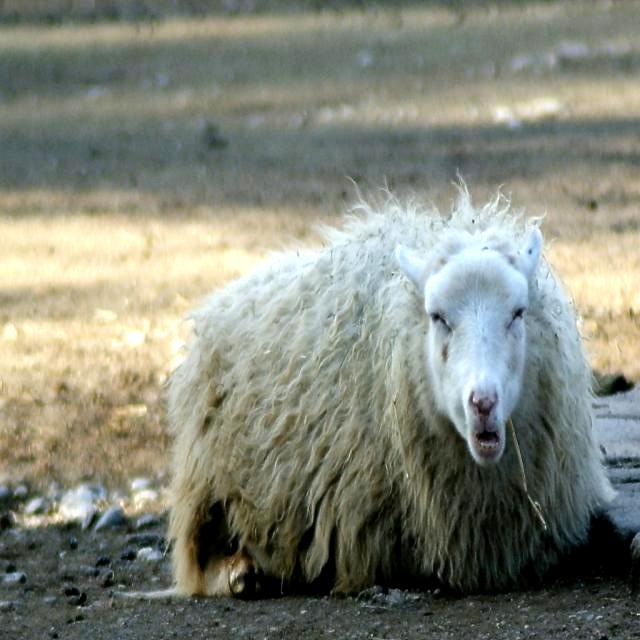sheep: (152, 189, 622, 599)
